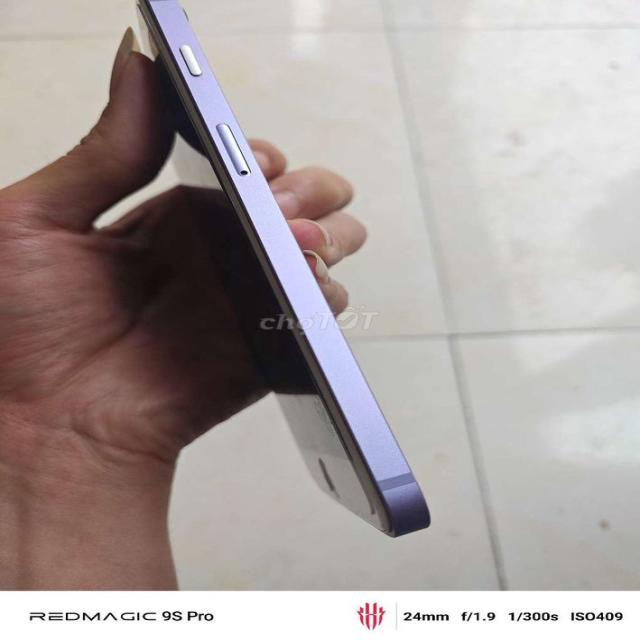gen_7_8: (121, 1, 437, 546)
